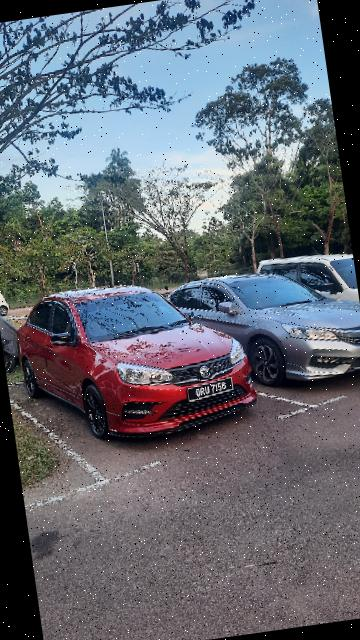License_Plate: (179, 376, 242, 405)
car: (14, 266, 269, 459), (173, 248, 360, 396)
